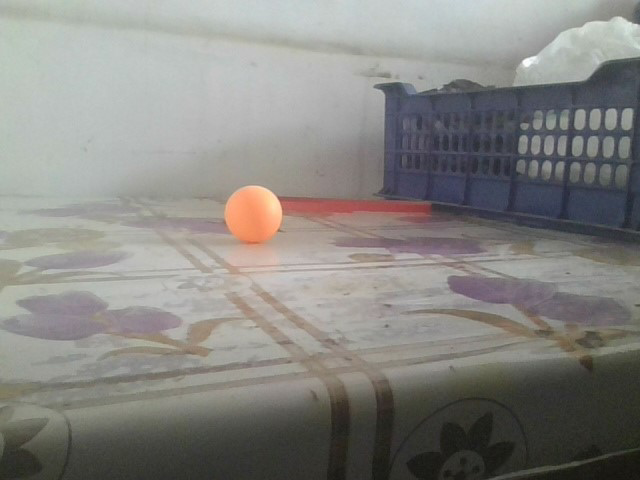ball: (227, 187, 281, 239)
